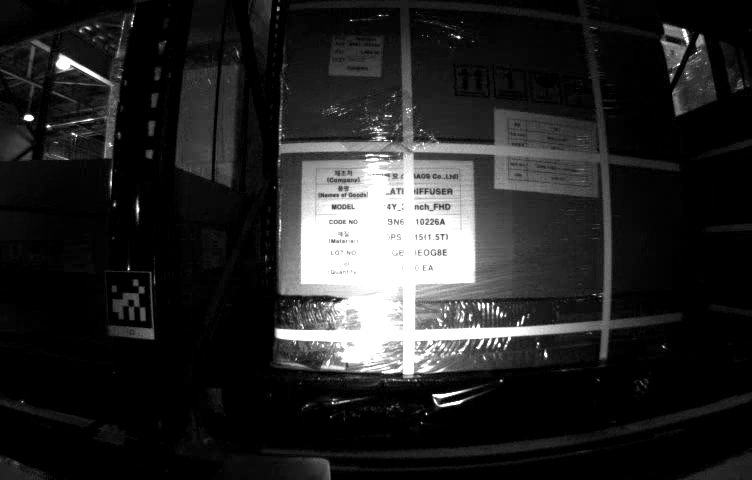True Barcode: (330, 37, 383, 77), (58, 231, 92, 274)
